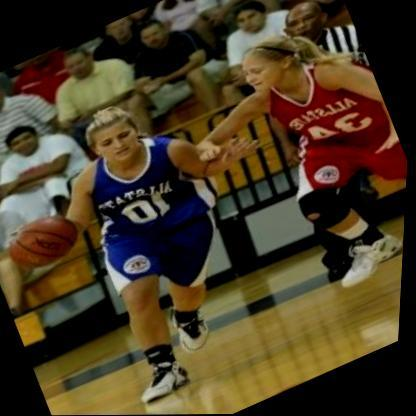basketball: (0, 200, 96, 285)
